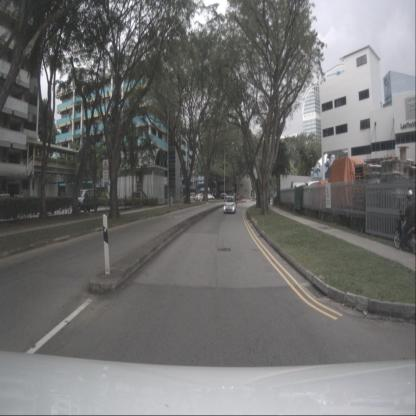vehicle-car: (75, 188, 99, 212), (224, 195, 236, 214), (204, 193, 214, 200), (196, 193, 204, 201), (235, 193, 243, 201)
vehicle-motorcycle: (394, 189, 415, 256)
